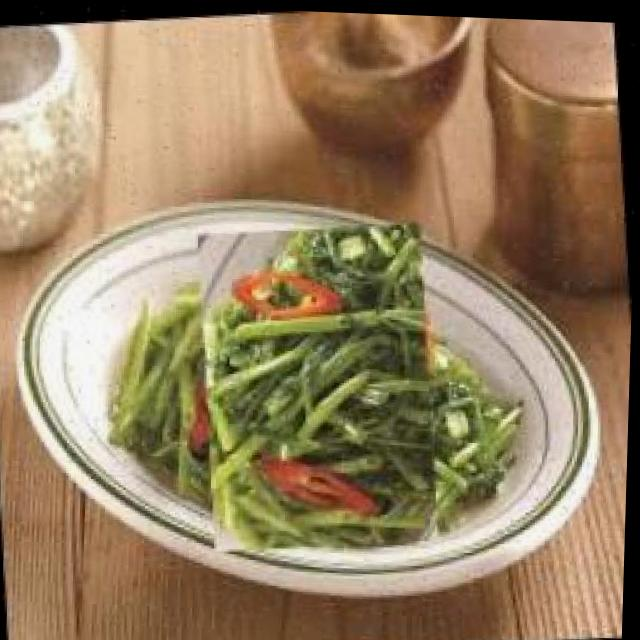water_spinach: (171, 235, 471, 537)
